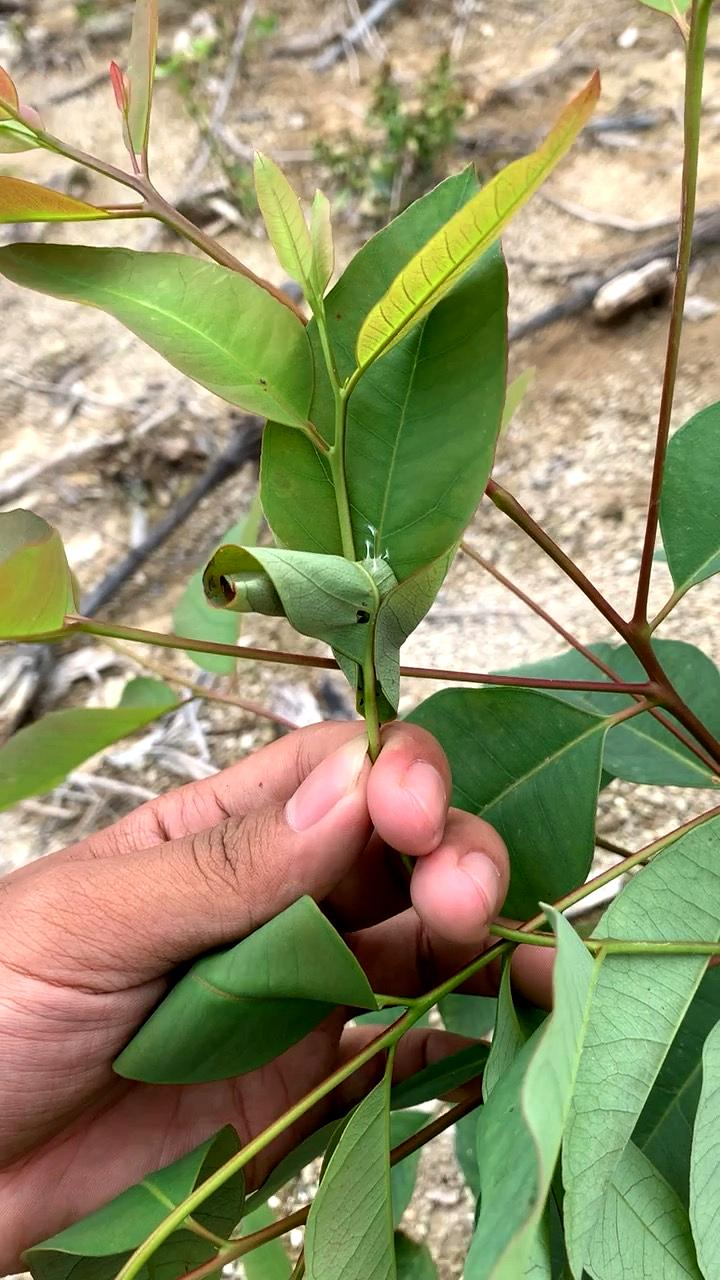Leaf Roller - Leaf: (166, 513, 419, 686)
